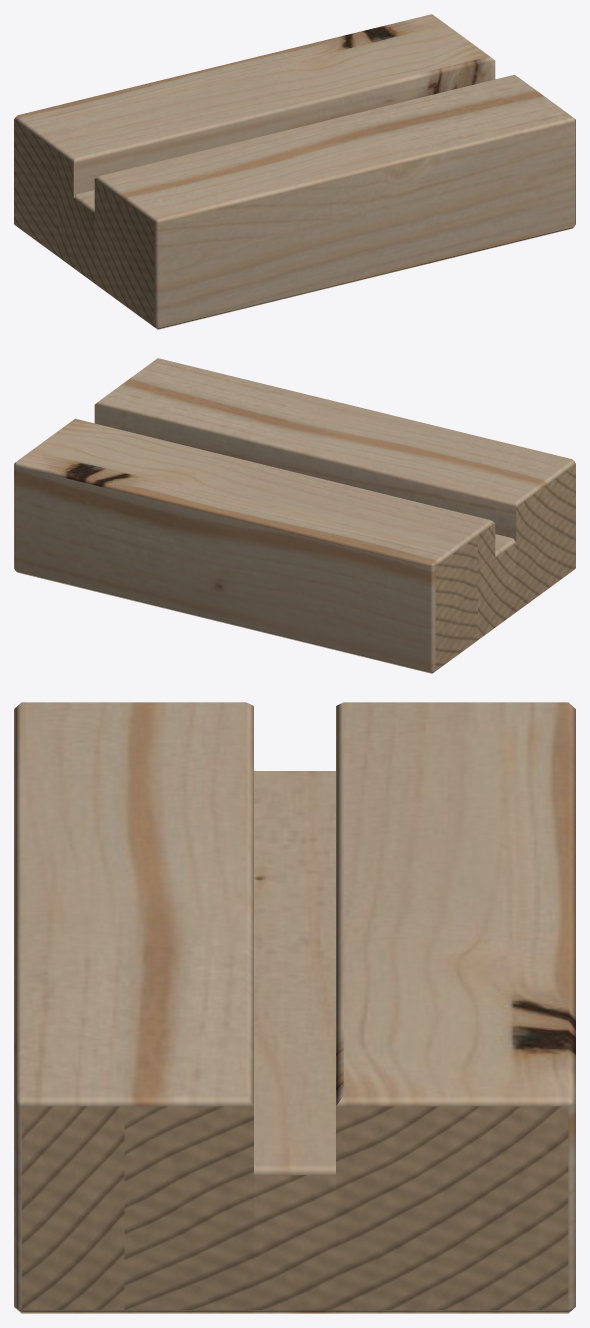
File: clay_holder.glb
3 renders of one model, top to bottom at view 1: azimuth 30°, elevation 25°; view 2: azimuth 150°, elevation 25°; view 3: azimuth 270°, elevation 25°, orthographic. The views are drawn at different scales.
Parts seen in each view (by area): view 1: clay_holder; view 2: clay_holder; view 3: clay_holder.
Boxes of the visible parts, <box> form: clay_holder: <box>14,14,575,329</box>; clay_holder: <box>14,358,575,673</box>; clay_holder: <box>14,702,575,1313</box>.
Bounding box in the file's own units: 0.15 × 0.038 × 0.089.
2 materials, 2 textured.
